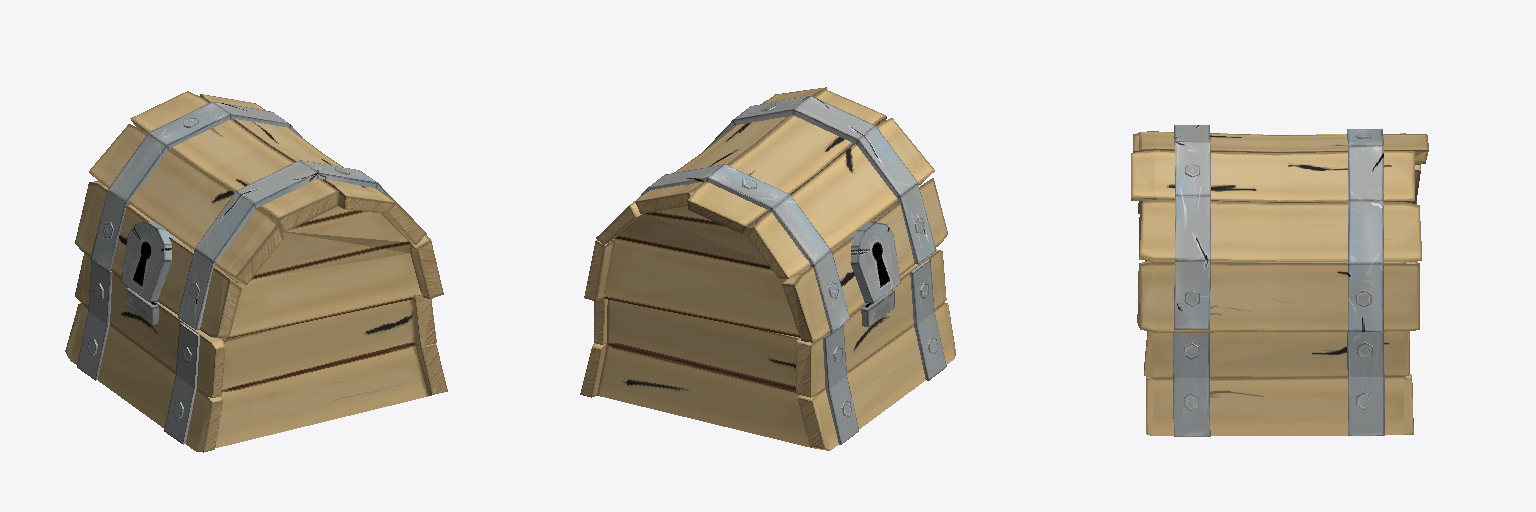
3 views of the same model, side by side, from view 1: azimuth 30°, elevation 25°; view 2: azimuth 150°, elevation 25°; view 3: azimuth 270°, elevation 25° (orthographic).
Parts seen in each view (by area): view 1: polySurface7; view 2: polySurface7; view 3: polySurface7.
Part boxes in pixels (x1,y1,x2,y2): polySurface7: (65,91,447,452); polySurface7: (580,87,955,450); polySurface7: (1131,125,1428,436).
Bounding box in the file's own units: 2.33 × 2.1 × 2.38.
1 materials, 1 textured.